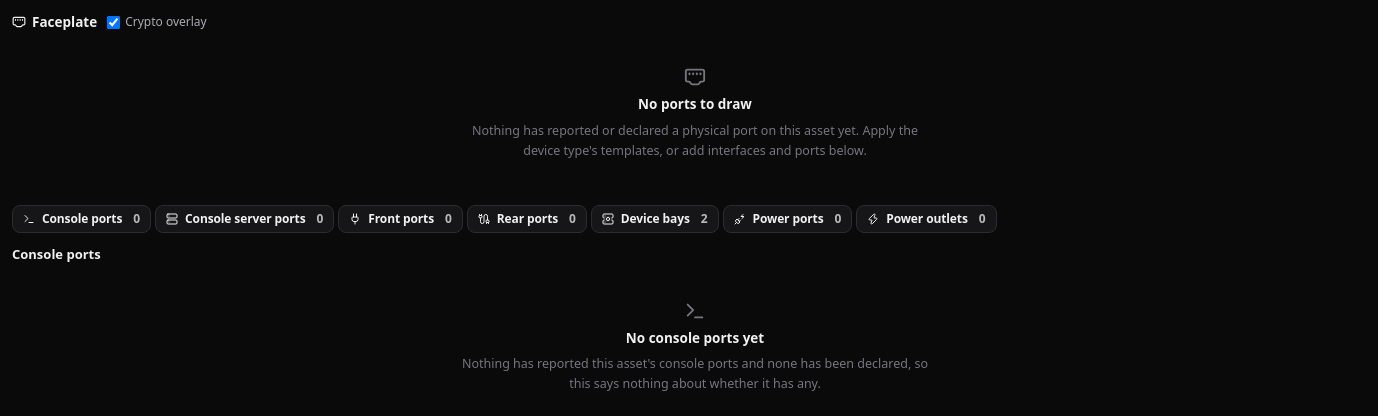
<PortsTab> states › device bays link to the installed asset, or say Empty
The width and height of the screenshot is (1378, 416).
Expected: the text "2" is shown, [701, 210, 708, 228]
What coordinates should you click on to do the following:
click the tab "Device bays 2"
I would click on:
 (655, 218)
Its box is [591, 204, 718, 232].
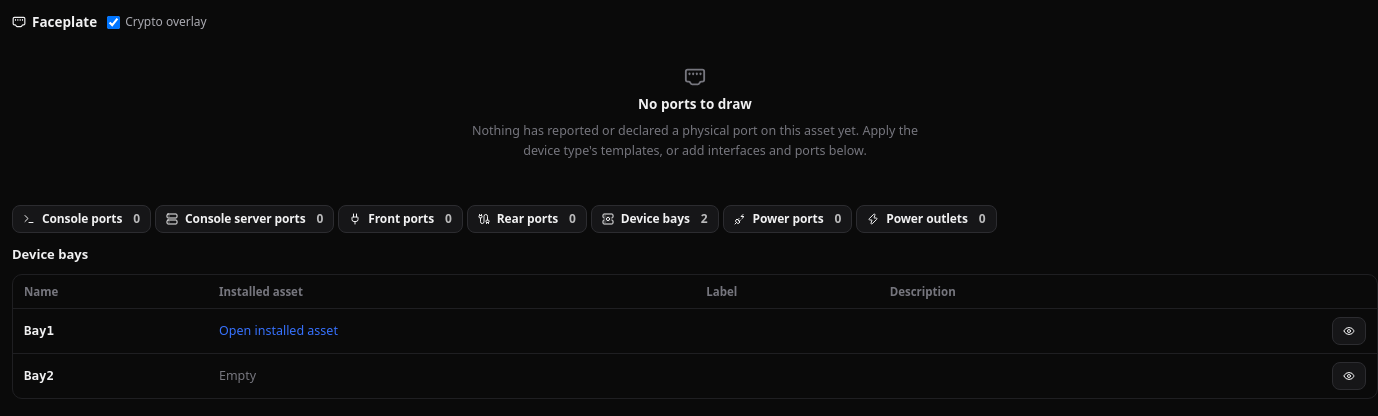
Now the link to "/inventory/assets/99999999-9999-4999-8999-999999999999" is shown, box [219, 322, 338, 339]
Now the text "Empty" is shown, box [219, 367, 256, 384]
